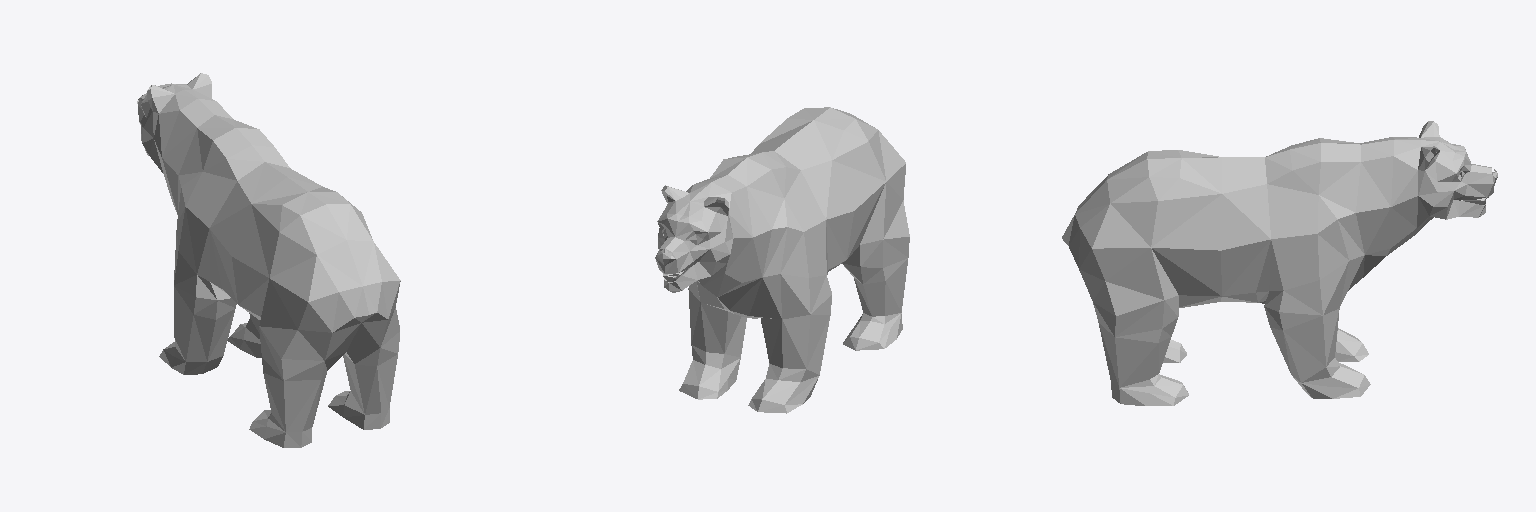
The model's file is bear.obj.
3 renders of one model, left to right at view 1: azimuth 30°, elevation 25°; view 2: azimuth 150°, elevation 25°; view 3: azimuth 270°, elevation 25°, orthographic.
Visible parts, largest first — view 1: Bear; view 2: Bear; view 3: Bear.
Boxes of the visible parts, box(x1,y1,x2,y2) form: Bear: box(137, 73, 400, 447); Bear: box(655, 107, 909, 413); Bear: box(1062, 121, 1497, 405).
Size of the model in its own units: 63.94 by 119 by 194.